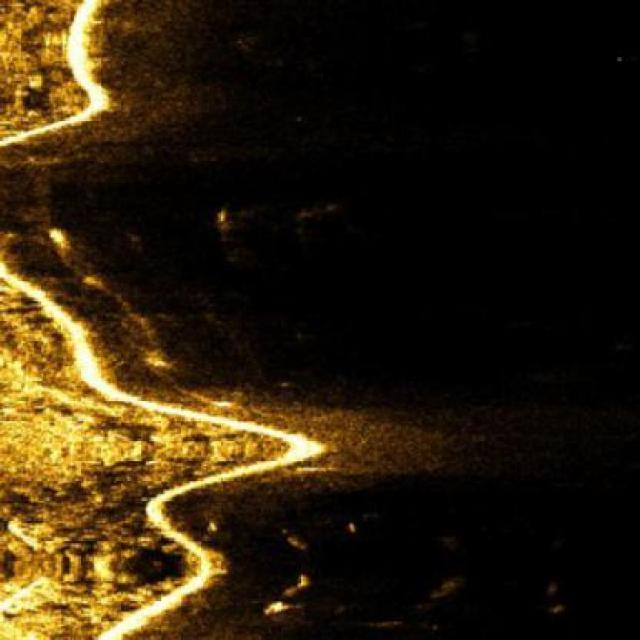bedrock group: (0, 0, 334, 638)
